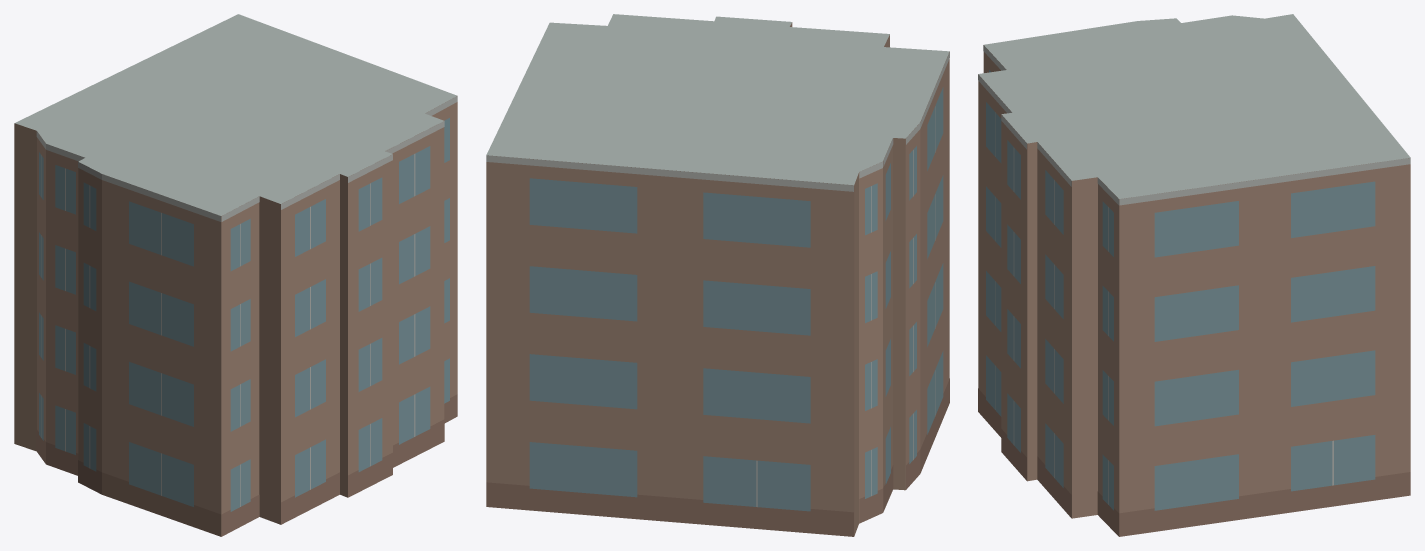
Rendered from survey-upis-32683741.glb.
3 renders of one model, left to right at view 1: azimuth 30°, elevation 25°; view 2: azimuth 150°, elevation 25°; view 3: azimuth 270°, elevation 25°, orthographic. The views are drawn at different scales.
Parts seen in each view (by area): view 1: survey-upis-32683741.tmp; view 2: survey-upis-32683741.tmp; view 3: survey-upis-32683741.tmp.
Boxes of the visible parts, x1,y1,x2,y2 form: survey-upis-32683741.tmp: (14,14,457,536); survey-upis-32683741.tmp: (486,14,949,536); survey-upis-32683741.tmp: (978,14,1410,536).
Bounding box in the file's own units: 15.15 × 12.88 × 14.96.
